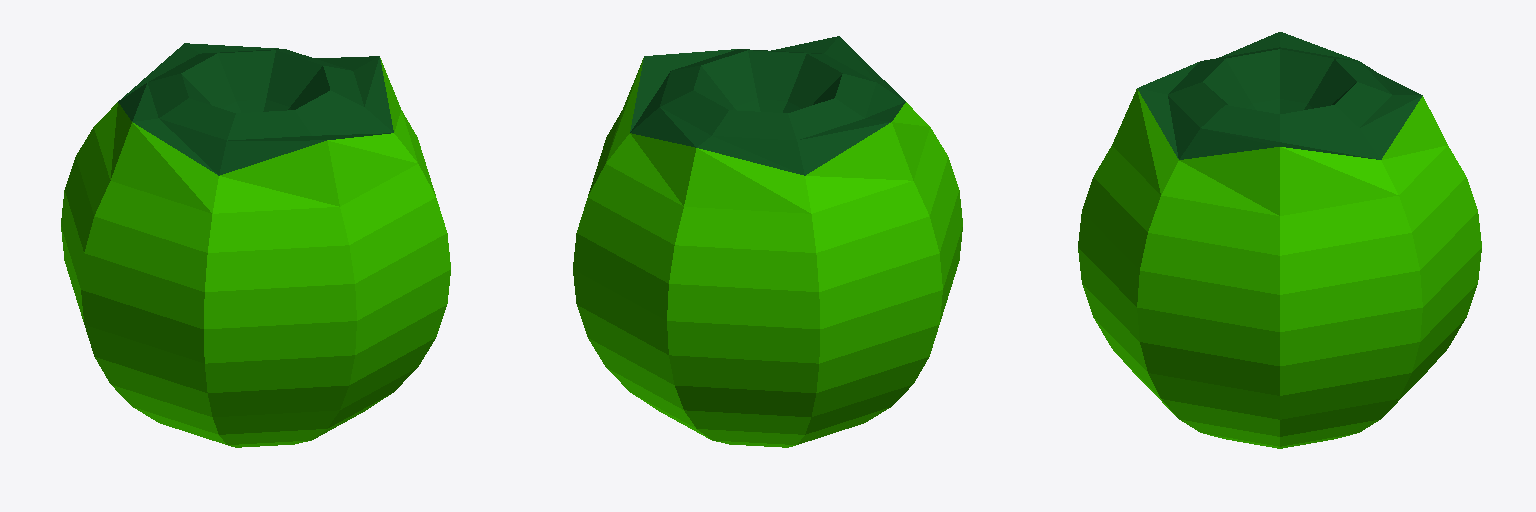
File: bigcactus.obj
3 views of the same model, side by side, from view 1: azimuth 30°, elevation 25°; view 2: azimuth 150°, elevation 25°; view 3: azimuth 270°, elevation 25° (orthographic).
Parts seen in each view (by area): view 1: Sphere_Sphere.001; view 2: Sphere_Sphere.001; view 3: Sphere_Sphere.001.
Boxes of the visible parts, <box> form: Sphere_Sphere.001: <box>61,43,450,447</box>; Sphere_Sphere.001: <box>573,36,962,447</box>; Sphere_Sphere.001: <box>1078,32,1481,448</box>.
Size of the model in its own units: 1 by 0.951 by 1.